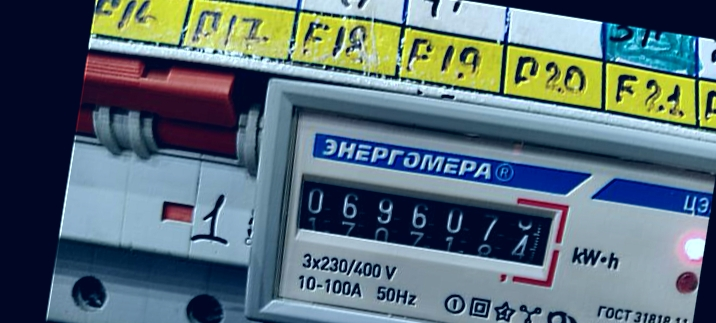0: (302, 184, 328, 217), (443, 205, 466, 237)
4: (507, 231, 530, 262)
6: (407, 200, 432, 234), (338, 190, 361, 222)
7: (477, 210, 500, 243)
9: (373, 195, 397, 227)
screen: (279, 156, 573, 291)
